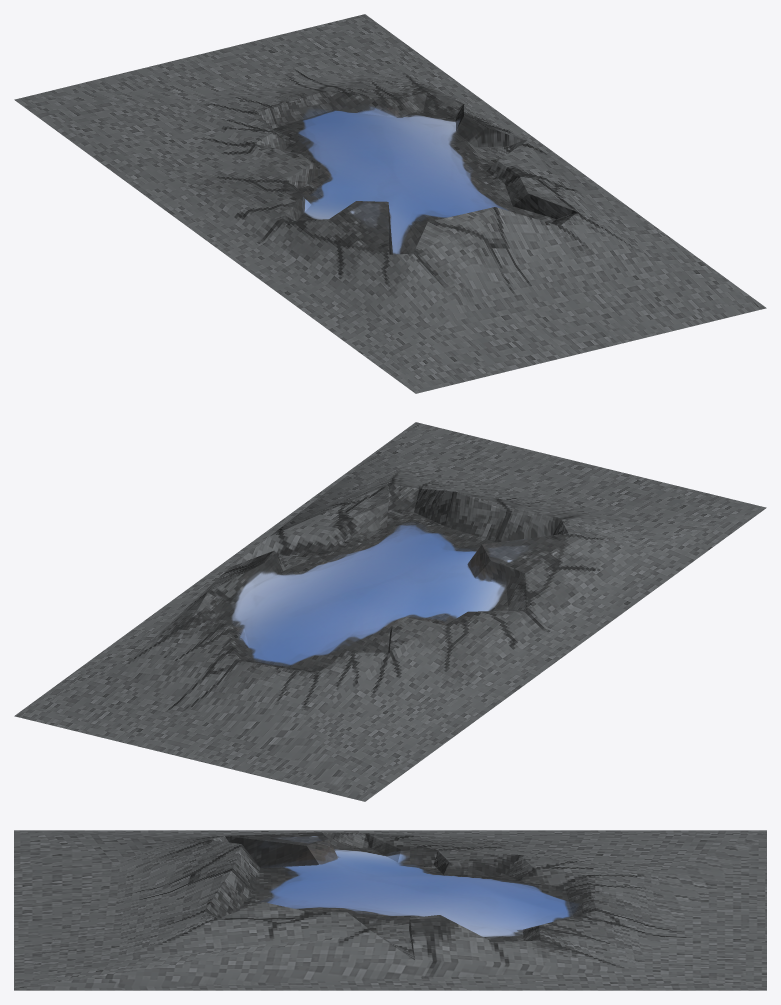
File: SM_Obstacle_A_RoadHole.fbx
3 renders of one model, top to bottom at view 1: azimuth 30°, elevation 25°; view 2: azimuth 150°, elevation 25°; view 3: azimuth 270°, elevation 25°, orthographic. The views are drawn at different scales.
Visible parts, largest first — view 1: SM_Obstacle_A_RoadHole; view 2: SM_Obstacle_A_RoadHole; view 3: SM_Obstacle_A_RoadHole.
Part boxes in pixels (left/top/right/bottom): SM_Obstacle_A_RoadHole: left=14, top=14, right=766, bottom=393; SM_Obstacle_A_RoadHole: left=14, top=422, right=766, bottom=801; SM_Obstacle_A_RoadHole: left=14, top=830, right=766, bottom=990.
Bounding box in the file's own units: 252 × 36.94 × 500.
1 material, 1 textured.
